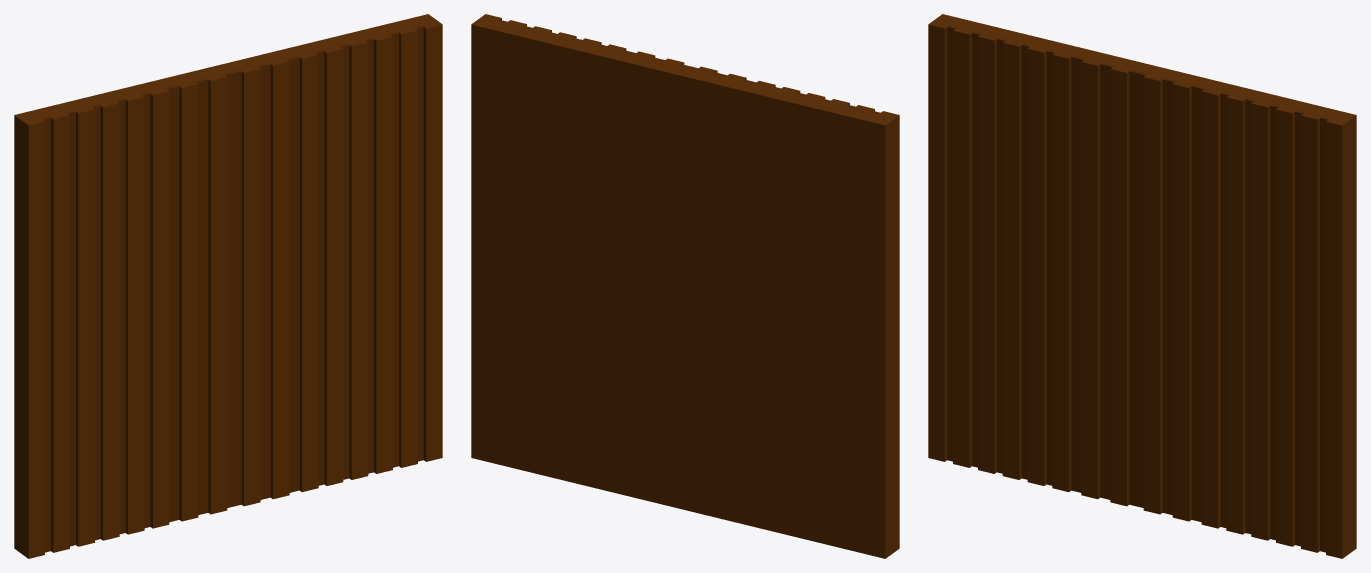
The model's file is Wall_Basic.obj.
3 renders of one model, left to right at view 1: azimuth 30°, elevation 25°; view 2: azimuth 150°, elevation 25°; view 3: azimuth 330°, elevation 25°, orthographic.
Size of the model in its own units: 10 by 10 by 0.6.
Materials: 1 (1 with a texture image).
